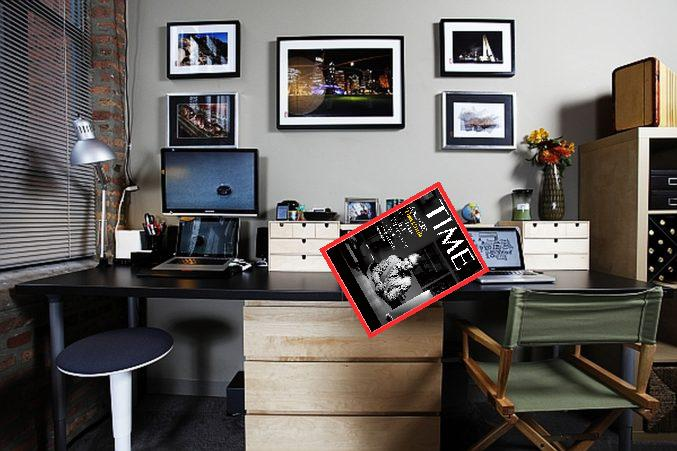times: (317, 179, 490, 337)
